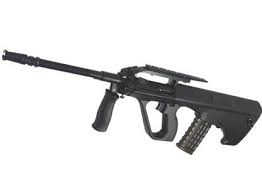Arma Real: (1, 49, 262, 158)
